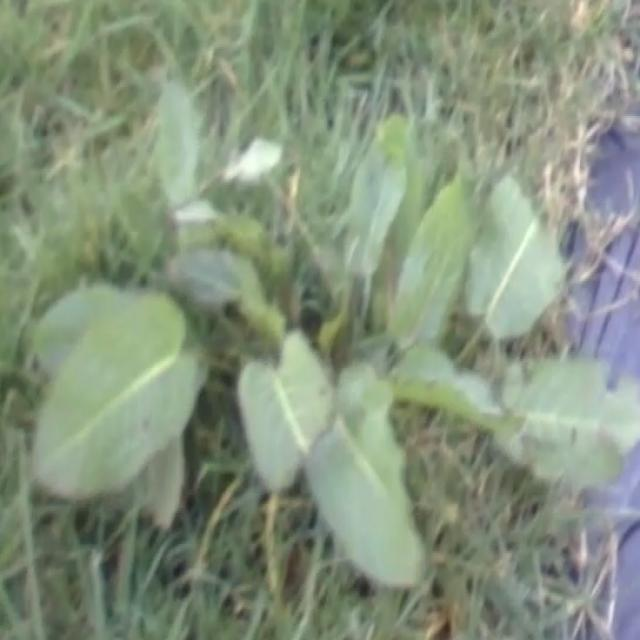organic waste: (30, 72, 635, 575)
